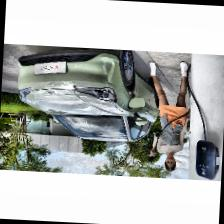EV: (15, 46, 162, 146)
